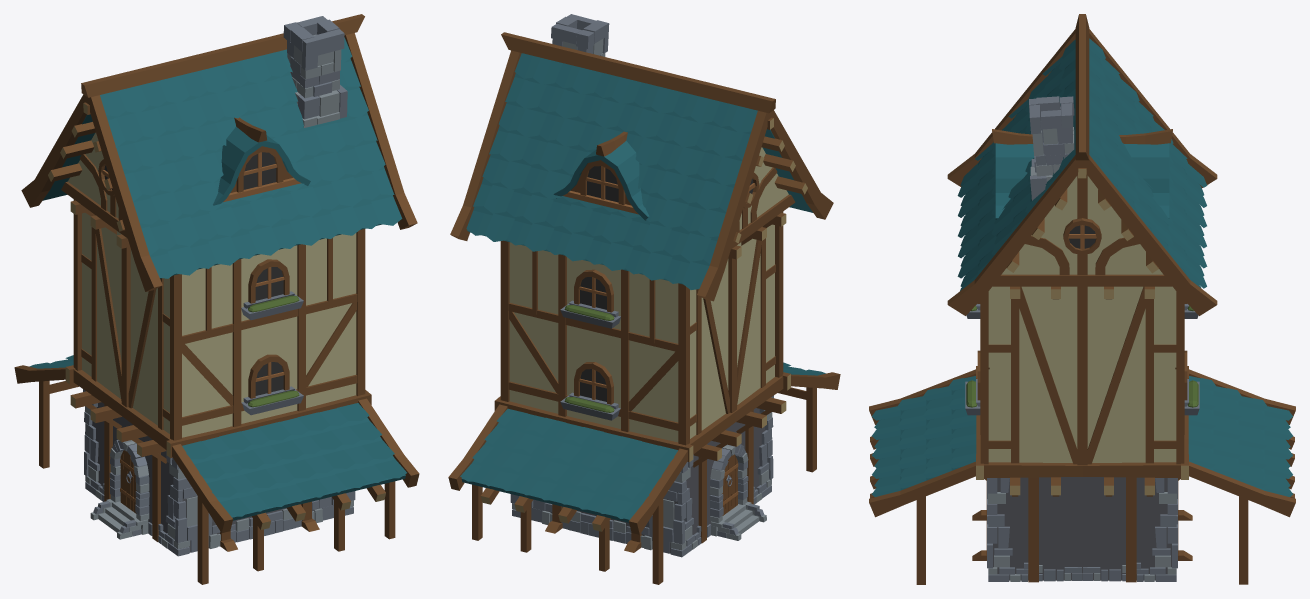
Rendered from mill.001_lev2.glb.
The picture shows the model from 3 angles, left to right: view 1: azimuth 30°, elevation 25°; view 2: azimuth 150°, elevation 25°; view 3: azimuth 270°, elevation 25°; orthographic projection. The views are drawn at different scales.
Visible parts, largest first — view 1: mill.001_lev2; view 2: mill.001_lev2; view 3: mill.001_lev2.
Part boxes in pixels (x1,y1,x2,y2): mill.001_lev2: (14,14,419,584); mill.001_lev2: (448,14,840,584); mill.001_lev2: (869,14,1295,584).
Size of the model in its own units: 5.24 by 8.29 by 6.79.
